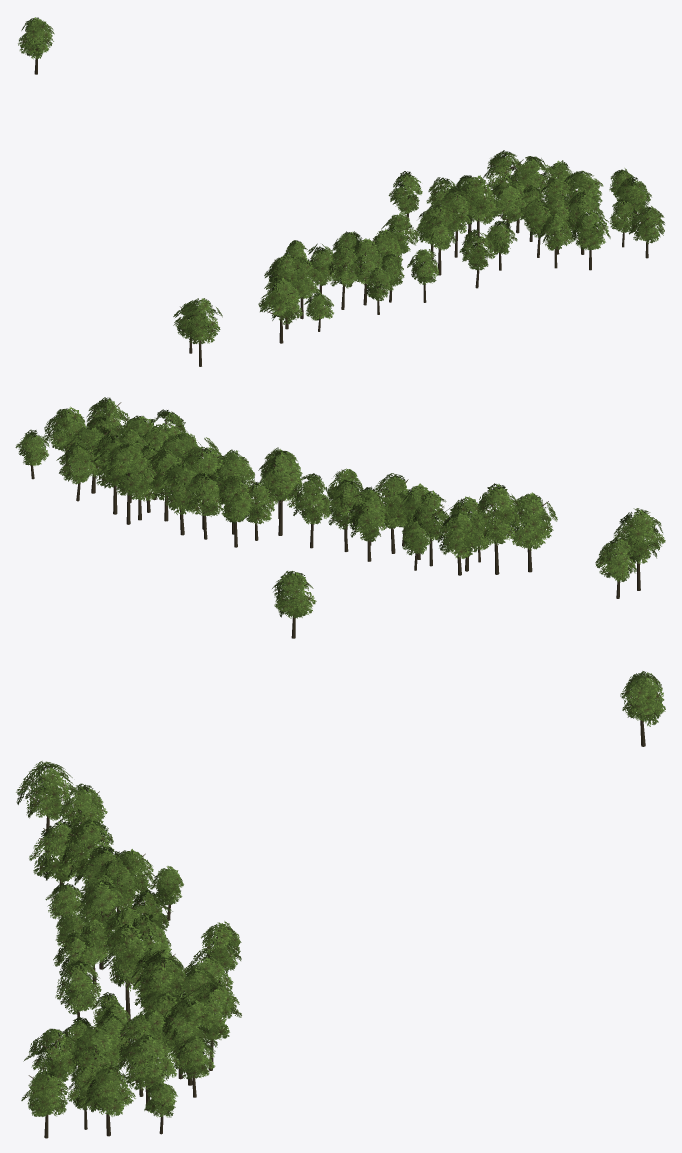
Rendered from TRB8-FOREST-CHUNK-3-2.glb.
3 views of the same model, one above another, from view 1: azimuth 30°, elevation 25°; view 2: azimuth 150°, elevation 25°; view 3: azimuth 270°, elevation 25° (orthographic). The views are drawn at different scales.
Visible parts, largest first — view 1: TRB8-FOREST-CHUNK-3-2; view 2: TRB8-FOREST-CHUNK-3-2; view 3: TRB8-FOREST-CHUNK-3-2.
Part boxes in pixels (<box>): TRB8-FOREST-CHUNK-3-2: <box>18,17,664,366</box>; TRB8-FOREST-CHUNK-3-2: <box>15,397,665,638</box>; TRB8-FOREST-CHUNK-3-2: <box>16,671,665,1138</box>.
Size of the model in its own units: 41.44 by 13.32 by 35.66.
2 materials, 1 textured.
